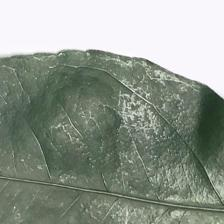healthy: (0, 37, 118, 224)
